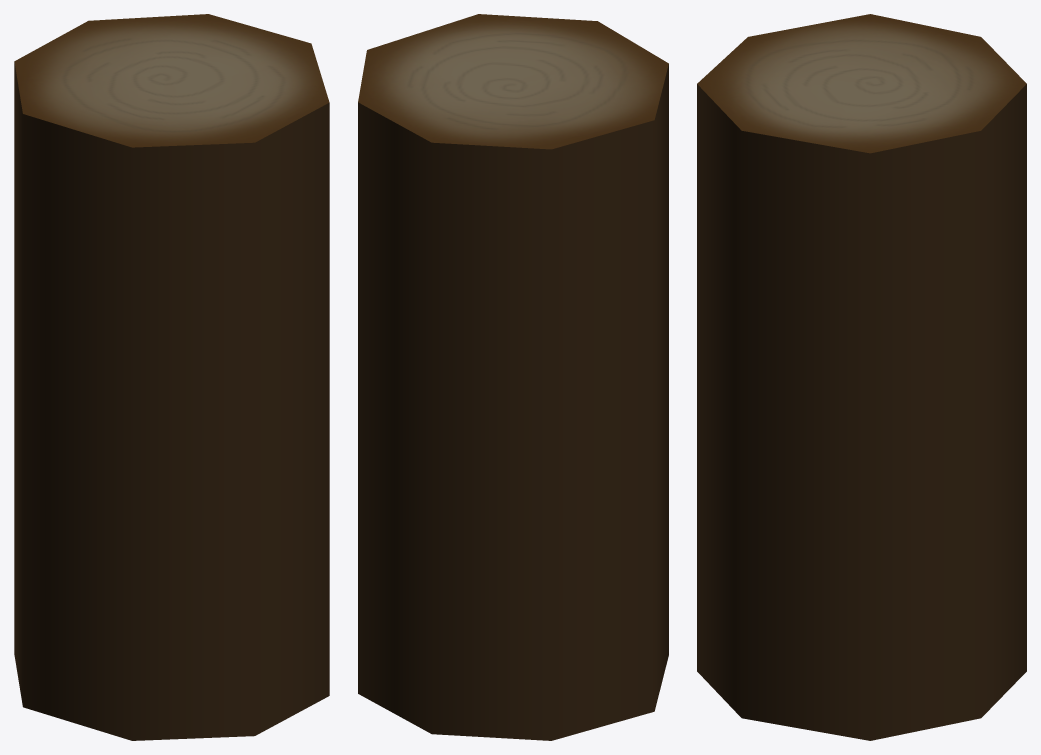
The model's file is Small_Fir_Tree_Stump.fbx.
The picture shows the model from 3 angles, left to right: view 1: azimuth 30°, elevation 25°; view 2: azimuth 150°, elevation 25°; view 3: azimuth 270°, elevation 25°; orthographic projection.
Parts seen in each view (by area): view 1: Small_Fir_Tree; view 2: Small_Fir_Tree; view 3: Small_Fir_Tree.
Part boxes in pixels (x1,y1,x2,y2): Small_Fir_Tree: [14, 14, 329, 740]; Small_Fir_Tree: [358, 14, 668, 740]; Small_Fir_Tree: [697, 14, 1026, 740].
Size of the model in its own units: 87.8 by 173 by 87.8.
Materials: 1 (1 with a texture image).
